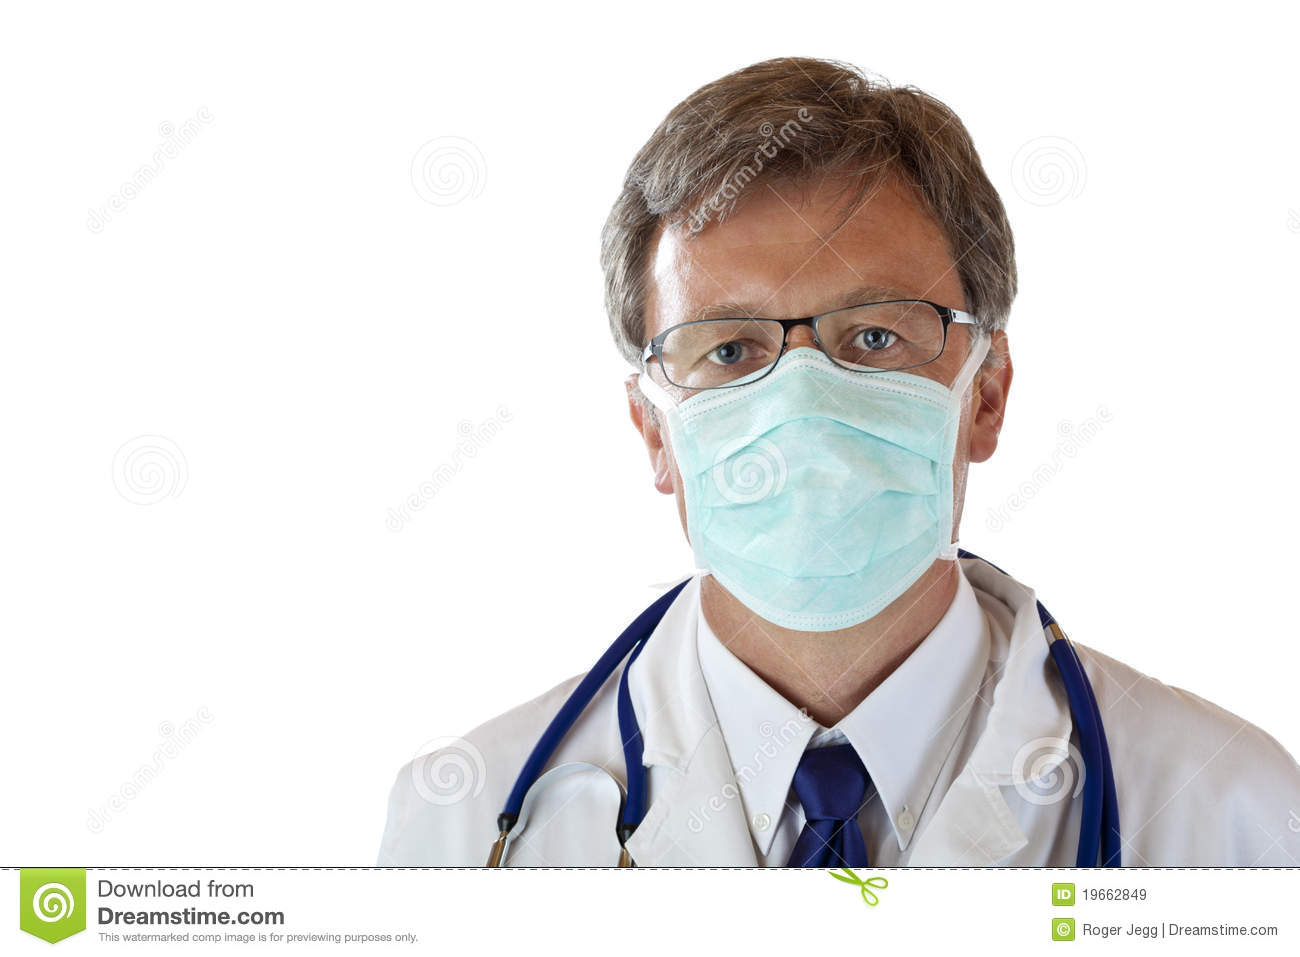mask: (667, 351, 966, 631)
